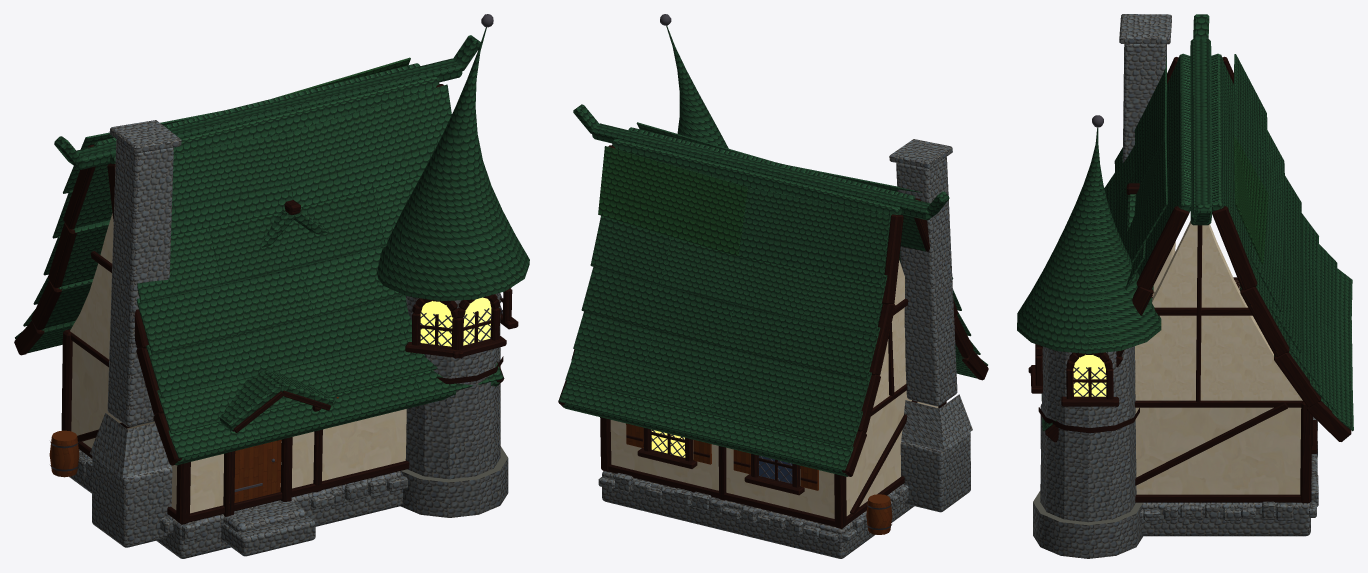
The model's file is fantasy_cottage.gltf.
3 renders of one model, left to right at view 1: azimuth 30°, elevation 25°; view 2: azimuth 150°, elevation 25°; view 3: azimuth 270°, elevation 25°, orthographic. The views are drawn at different scales.
Parts seen in each view (by area): view 1: fantasy_cottage_roof_LOD0, fantasy_cottage_base_LOD0, fantasy_cottage_trim_LOD0, fantasy_cottage_wall_LOD0, fantasy_cottage_door_LOD0, fantasy_cottage_glow_FFB65A_LOD0, fantasy_cottage_metal_LOD0; view 2: fantasy_cottage_roof_LOD0, fantasy_cottage_base_LOD0, fantasy_cottage_trim_LOD0, fantasy_cottage_wall_LOD0, fantasy_cottage_door_LOD0, fantasy_cottage_metal_LOD0; view 3: fantasy_cottage_roof_LOD0, fantasy_cottage_wall_LOD0, fantasy_cottage_base_LOD0, fantasy_cottage_trim_LOD0, fantasy_cottage_glow_FFB65A_LOD0, fantasy_cottage_metal_LOD0.
Boxes of the visible parts, box(x1,y1,x2,y2) form: fantasy_cottage_roof_LOD0: box(15, 27, 529, 465); fantasy_cottage_base_LOD0: box(69, 120, 508, 558); fantasy_cottage_trim_LOD0: box(14, 84, 518, 524); fantasy_cottage_wall_LOD0: box(70, 213, 406, 513); fantasy_cottage_door_LOD0: box(49, 397, 338, 502); fantasy_cottage_glow_FFB65A_LOD0: box(420, 297, 491, 346); fantasy_cottage_metal_LOD0: box(50, 14, 503, 491); fantasy_cottage_roof_LOD0: box(559, 25, 987, 476); fantasy_cottage_base_LOD0: box(598, 139, 972, 558); fantasy_cottage_trim_LOD0: box(558, 145, 988, 528); fantasy_cottage_wall_LOD0: box(610, 260, 938, 518); fantasy_cottage_door_LOD0: box(626, 423, 892, 534); fantasy_cottage_metal_LOD0: box(651, 14, 891, 530); fantasy_cottage_roof_LOD0: box(1017, 14, 1353, 431); fantasy_cottage_wall_LOD0: box(1135, 221, 1302, 494); fantasy_cottage_base_LOD0: box(1033, 14, 1318, 558); fantasy_cottage_trim_LOD0: box(1028, 56, 1351, 503); fantasy_cottage_glow_FFB65A_LOD0: box(1073, 354, 1106, 396); fantasy_cottage_metal_LOD0: box(1073, 115, 1106, 397).
Size of what is drawn, in the model's own units: 11.49 by 12.08 by 8.39.
9 materials, 5 textured.
